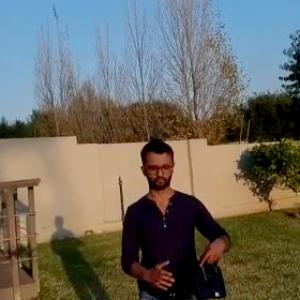follow: (118, 133, 244, 299)
